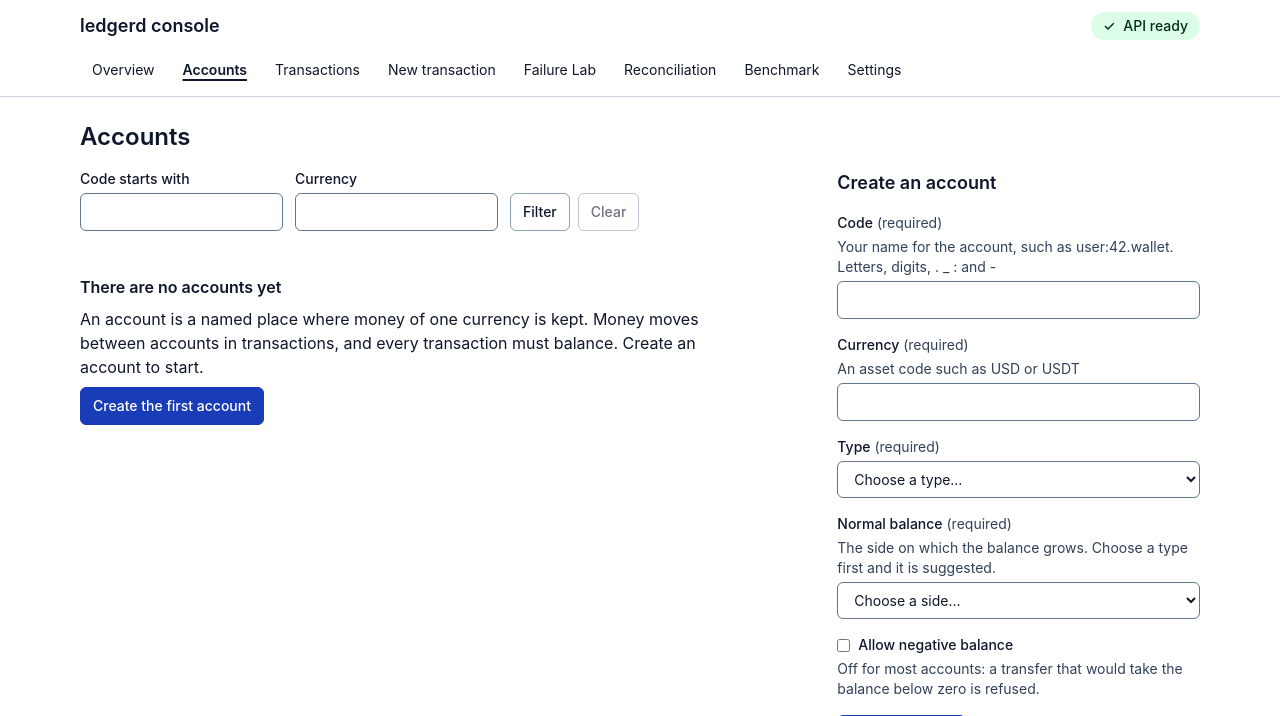
Scenario: the account form › creating › sends allow_negative false by default
Expected: the heading "Accounts" is shown, x1=80 y1=121 x2=190 y2=153
In the field labelled "Code (required)": (1019, 300) x1=837 y1=281 x2=1200 y2=319, type "user:42.wallet"
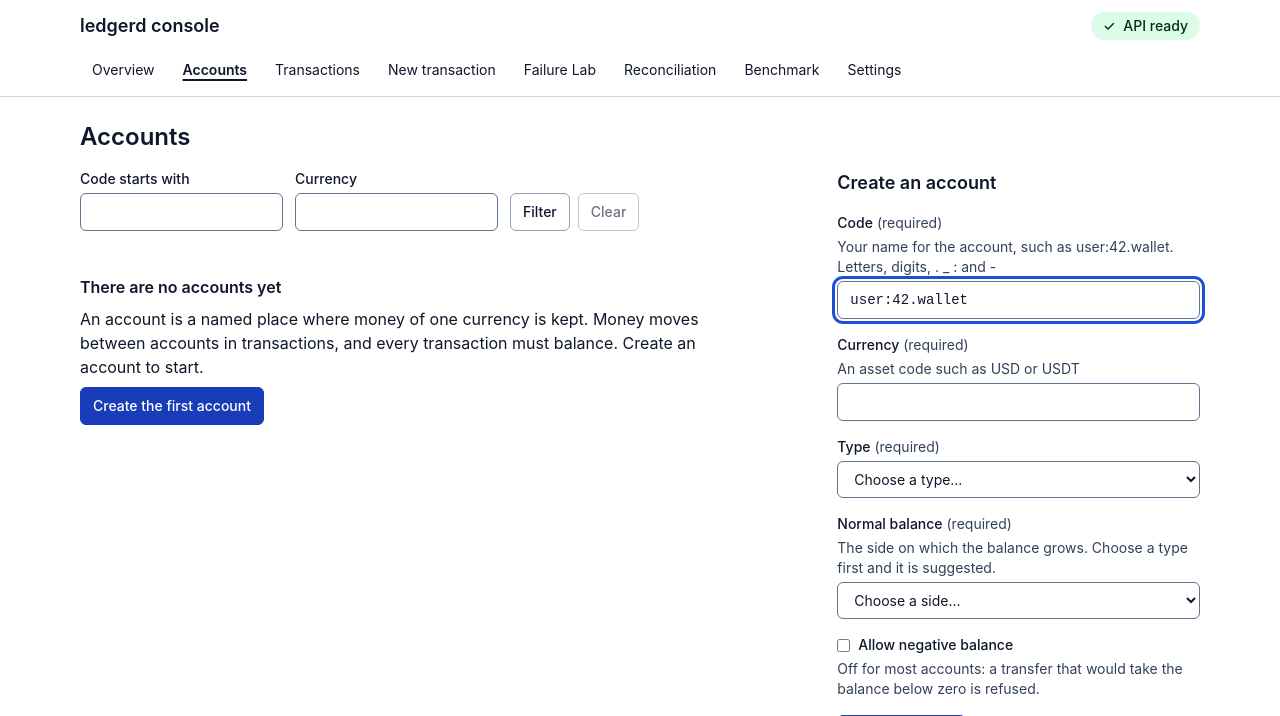
In the field labelled "Currency (required)": (1019, 402) x1=837 y1=383 x2=1200 y2=421, type "usd"
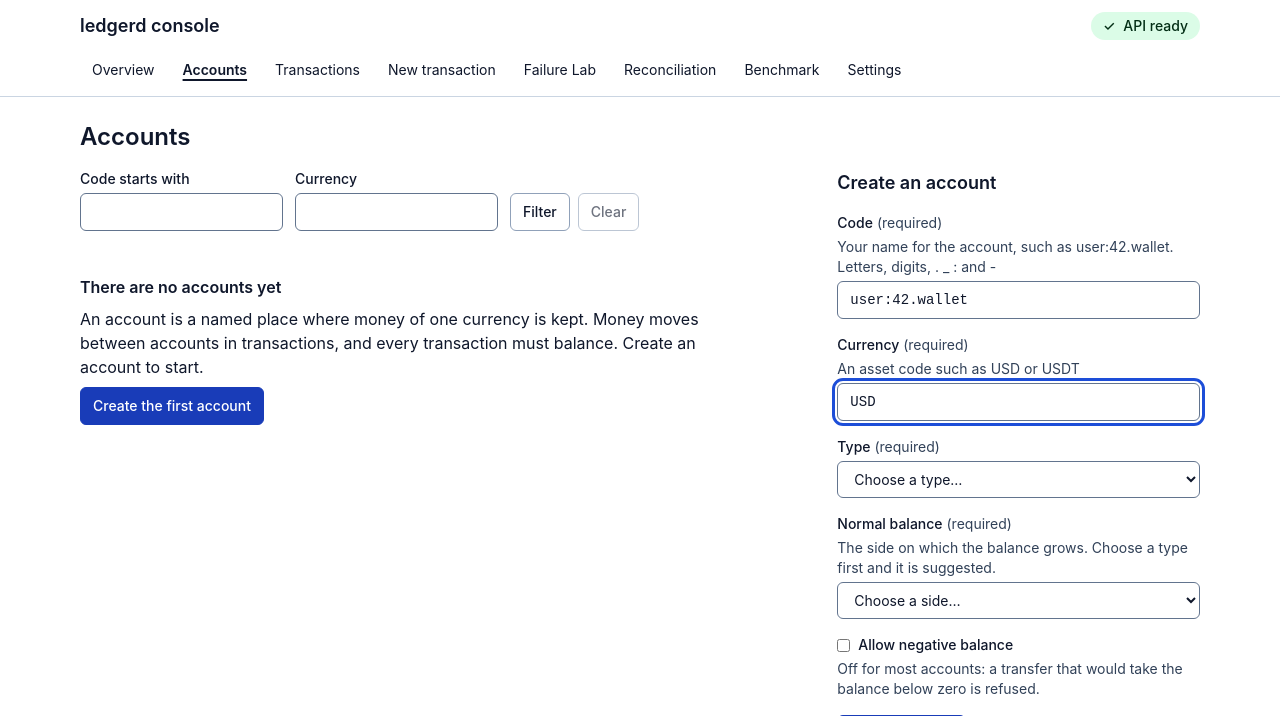
Select "Liability" in the dropdown labelled "Type (required)": (1019, 480) x1=837 y1=461 x2=1200 y2=498
(page scrolled)
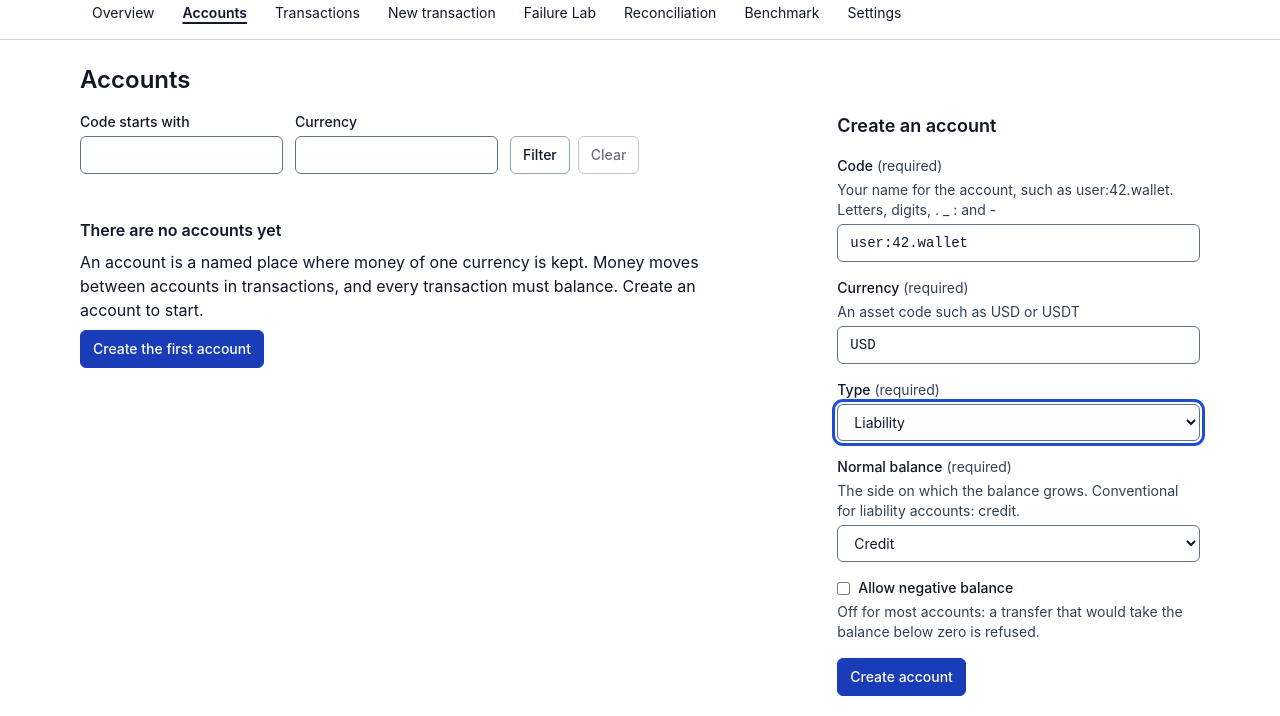
Click the button "Create account": (902, 677) x1=837 y1=658 x2=966 y2=696
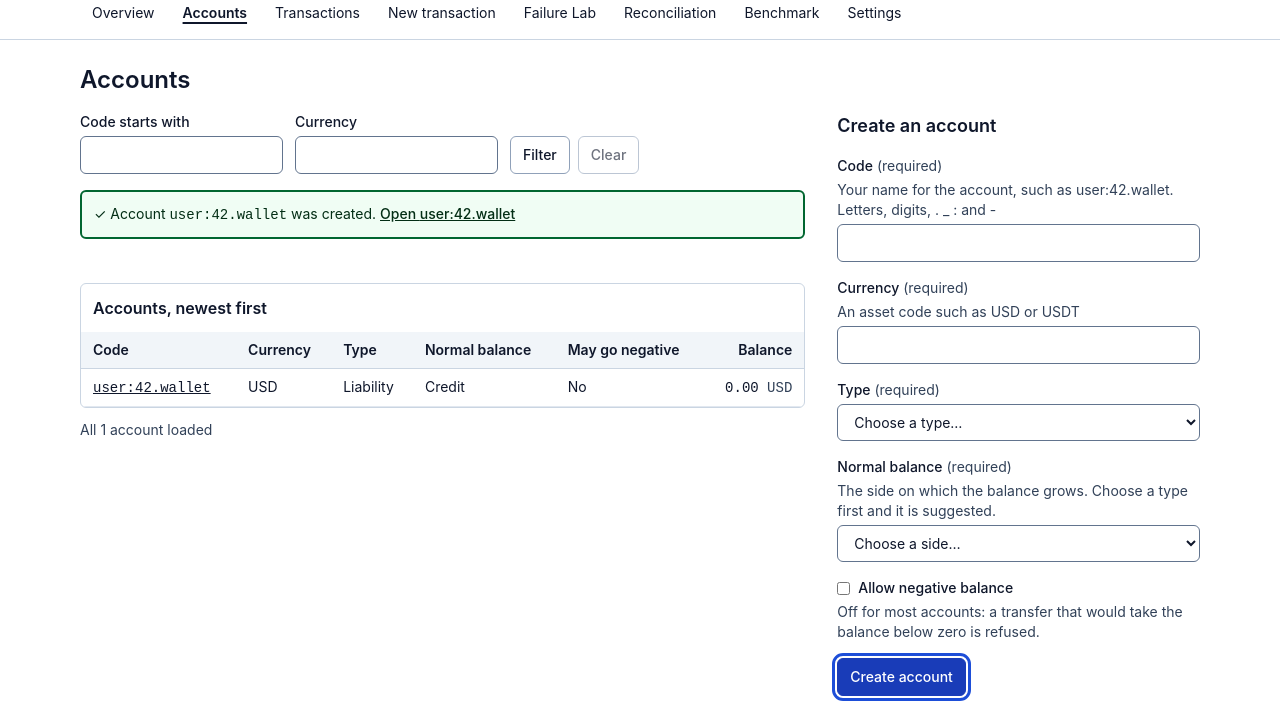
Expected: the link "Open user:42.wallet" is shown, x1=380 y1=205 x2=515 y2=222
